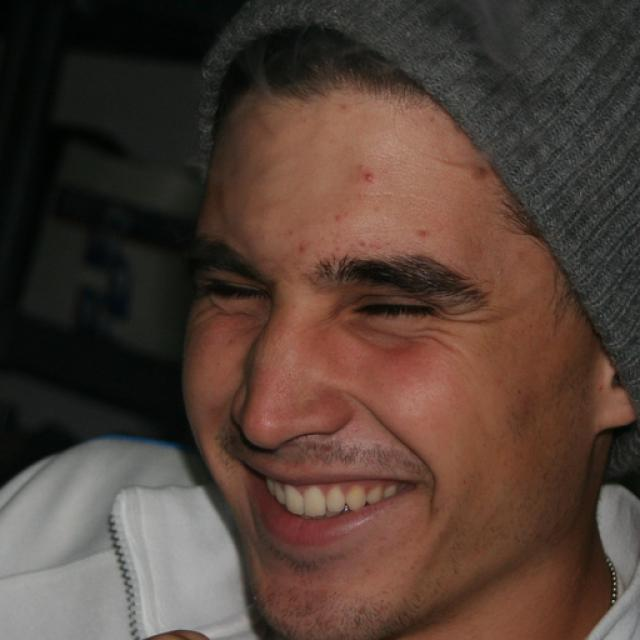Acne: (352, 163, 380, 185), (291, 239, 310, 256), (326, 212, 348, 226), (412, 226, 433, 239)
